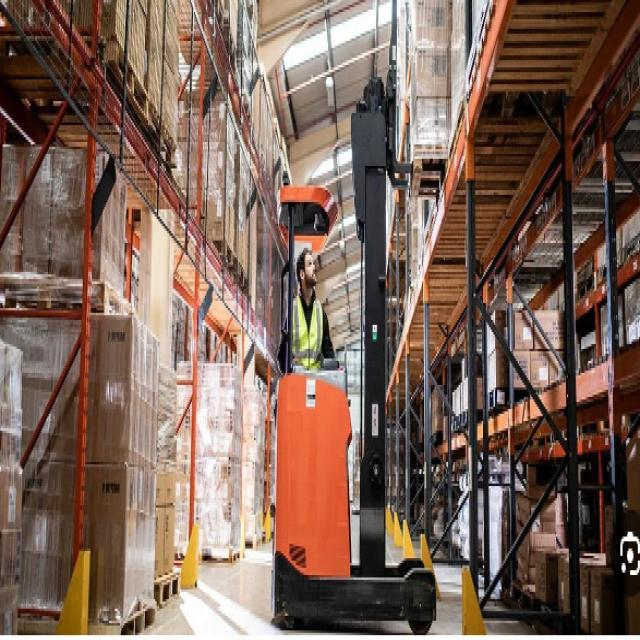vest: (287, 294, 323, 377)
